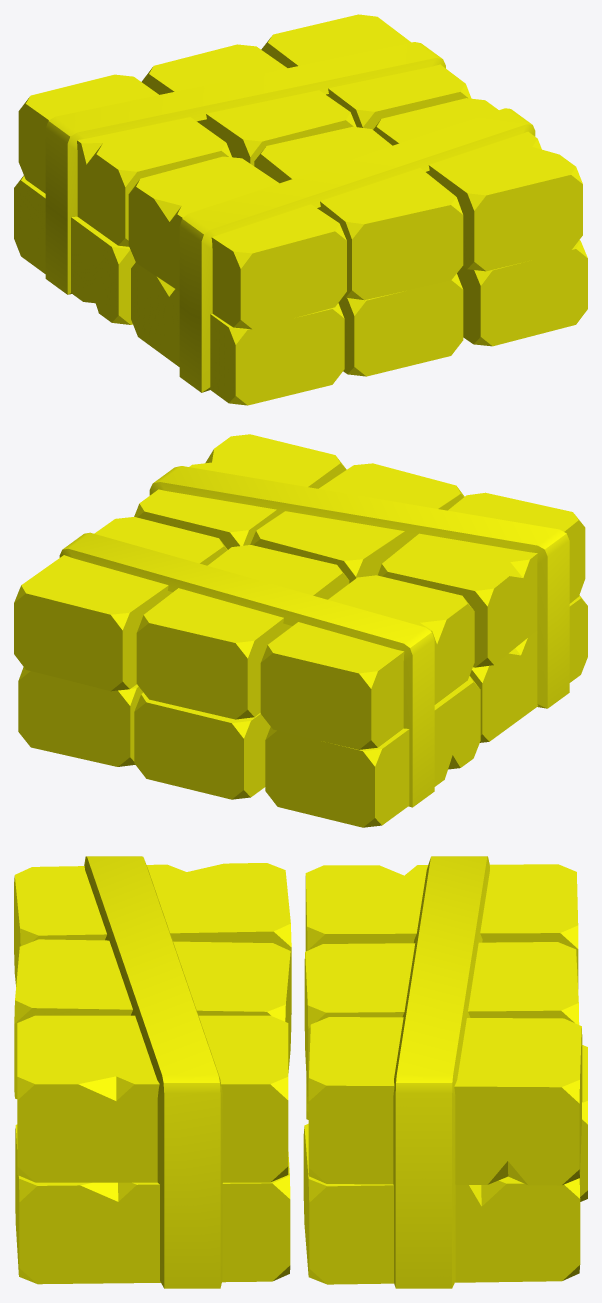
Rendered from kaykit-stone-bricks-stack-medium.glb.
3 renders of one model, top to bottom at view 1: azimuth 30°, elevation 25°; view 2: azimuth 150°, elevation 25°; view 3: azimuth 270°, elevation 25°, orthographic. The views are drawn at different scales.
Visible parts, largest first — view 1: Stone_Bricks_Stack_Medium; view 2: Stone_Bricks_Stack_Medium; view 3: Stone_Bricks_Stack_Medium.
Boxes of the visible parts, x1,y1,x2,y2 form: Stone_Bricks_Stack_Medium: [14, 14, 587, 405]; Stone_Bricks_Stack_Medium: [14, 434, 587, 827]; Stone_Bricks_Stack_Medium: [14, 856, 587, 1288].
Size of the model in its own units: 1.51 by 0.6332 by 1.59.
